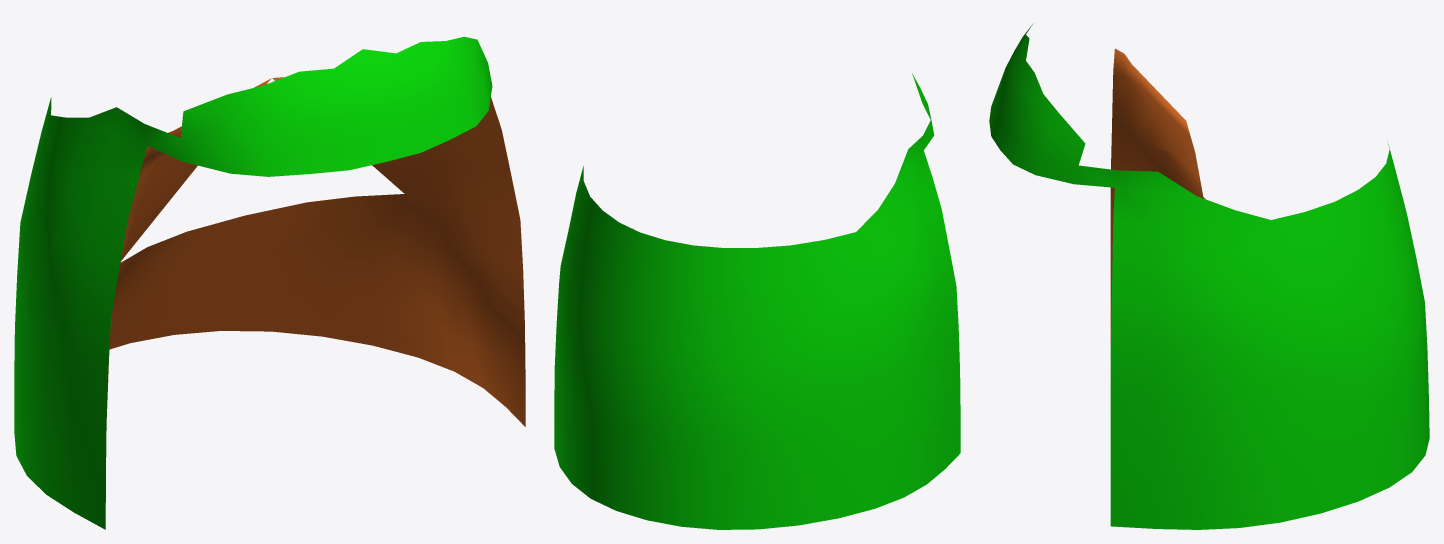
File: Hair2_4.glb
3 renders of one model, left to right at view 1: azimuth 30°, elevation 25°; view 2: azimuth 150°, elevation 25°; view 3: azimuth 270°, elevation 25°, orthographic. The views are drawn at different scales.
Bounding box in the file's own units: 65.5 × 66.27 × 66.19.
